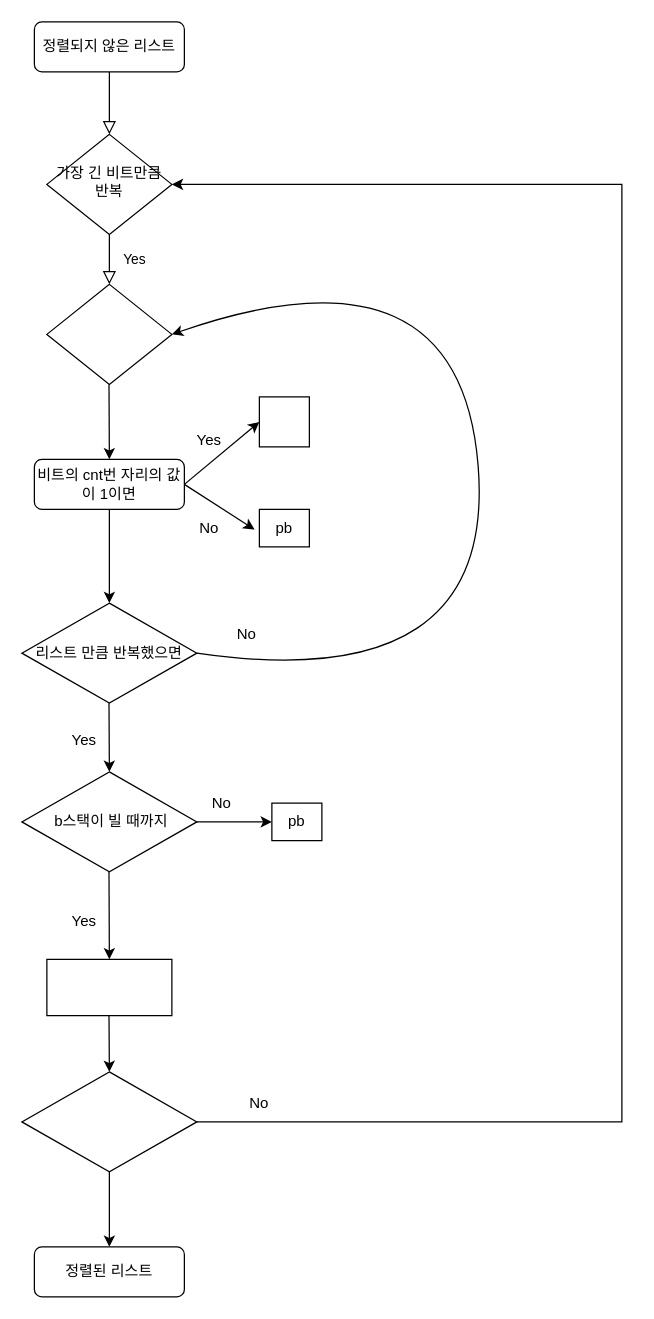
Image size: 654x1319. Some labels were removed from this diagram. Each missing label, with the box of its shape:
cnt 1증가: (46, 958, 172, 1016)
ra: (258, 396, 309, 447)
리스트의 길이만큼 반복: (46, 283, 172, 384)
모든 비트를 비교했으면: (21, 1071, 197, 1172)
